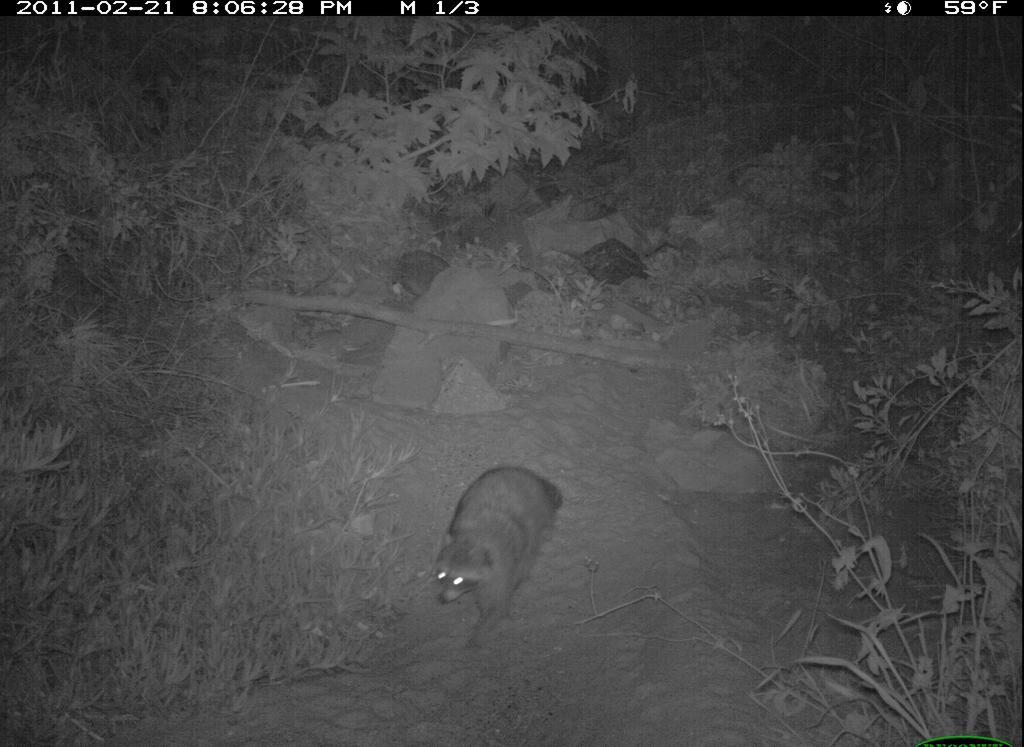raccoon: (414, 454, 573, 652)
